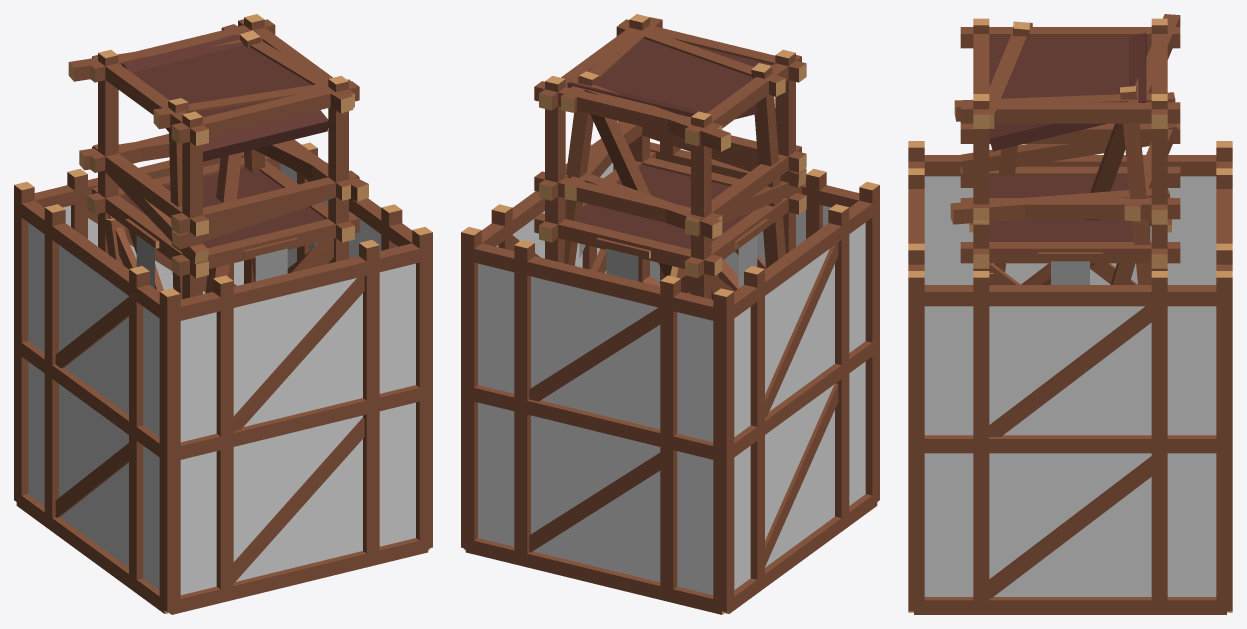
The model's file is Wooden Tower.fbx.
3 renders of one model, left to right at view 1: azimuth 30°, elevation 25°; view 2: azimuth 150°, elevation 25°; view 3: azimuth 270°, elevation 25°, orthographic. The views are drawn at different scales.
Parts seen in each view (by area): view 1: Scaffold, Carcass, Destruction_phase_1, First_Floor, Destruction_phase_2, Flag_1, Flag_4; view 2: Scaffold, Carcass, First_Floor, Destruction_phase_2, Destruction_phase_1, Flag_3; view 3: Scaffold, Carcass, First_Floor, Destruction_phase_2, Destruction_phase_1, Flag_2.
Part boxes in pixels (x1=…): Scaffold: x1=14, y1=142, x2=432, y2=614; Carcass: x1=87, y1=14, x2=359, y2=299; Destruction_phase_1: x1=93, y1=31, x2=358, y2=299; First_Floor: x1=121, y1=41, x2=325, y2=258; Destruction_phase_2: x1=68, y1=24, x2=368, y2=293; Flag_1: x1=255, y1=248, x2=287, y2=281; Flag_4: x1=136, y1=235, x2=154, y2=287; Scaffold: x1=461, y1=121, x2=879, y2=614; Carcass: x1=534, y1=14, x2=806, y2=299; First_Floor: x1=575, y1=38, x2=772, y2=258; Destruction_phase_2: x1=561, y1=17, x2=730, y2=299; Destruction_phase_1: x1=567, y1=25, x2=806, y2=294; Flag_3: x1=606, y1=249, x2=638, y2=281; Scaffold: x1=908, y1=141, x2=1232, y2=614; Carcass: x1=960, y1=18, x2=1180, y2=284; First_Floor: x1=969, y1=36, x2=1171, y2=261; Destruction_phase_2: x1=950, y1=14, x2=1180, y2=284; Destruction_phase_1: x1=960, y1=21, x2=1177, y2=284; Flag_2: x1=1051, y1=261, x2=1089, y2=284.
Bounding box in the file's own units: 2 × 3.32 × 2.
Materials: 2 (1 with a texture image).
